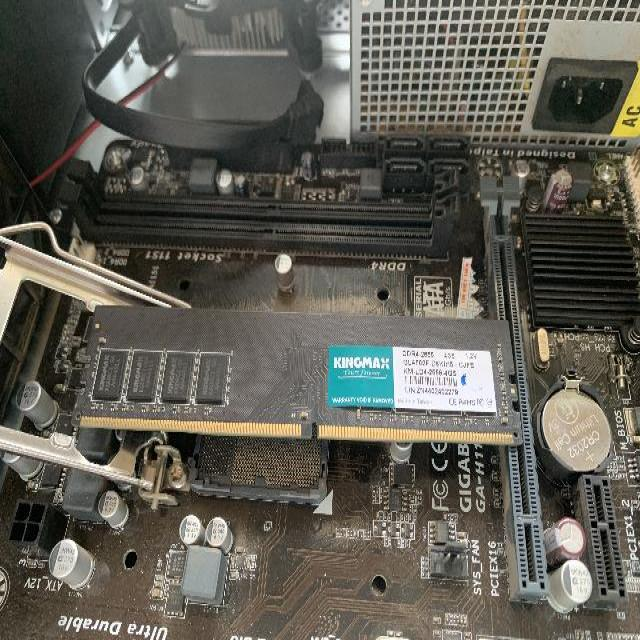CPU_Fan: (80, 0, 347, 100)
Mainboard: (2, 150, 640, 640)
PSU: (343, 0, 640, 172)
RAM: (72, 299, 526, 445)
